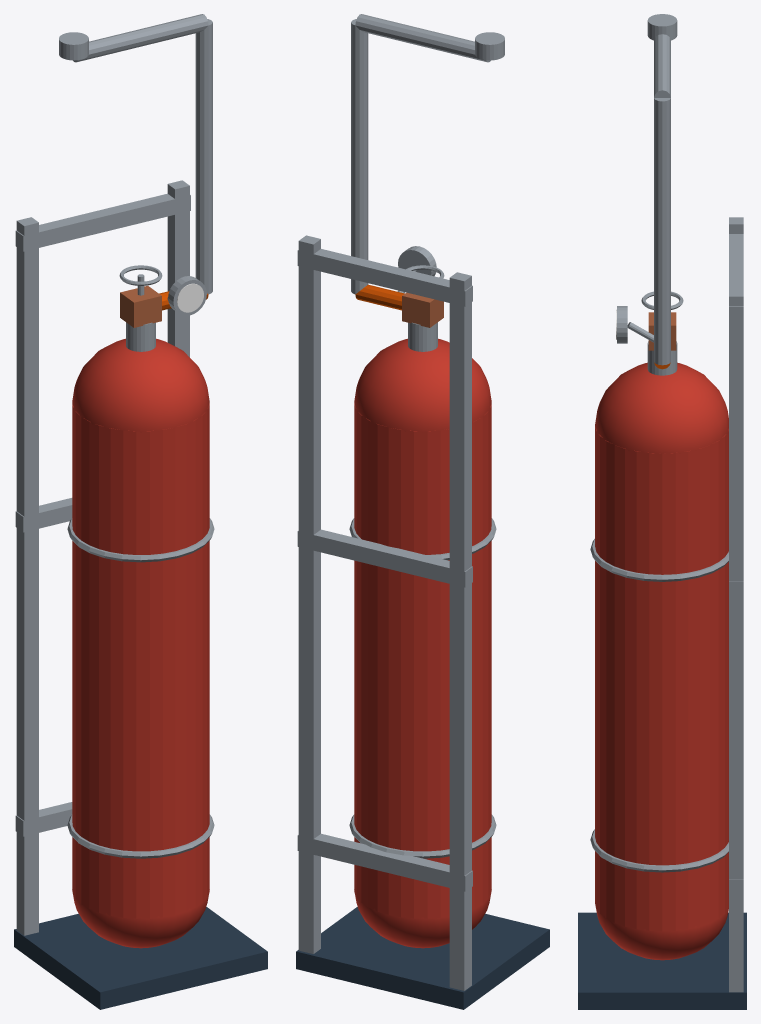
File: gas-suppression.glb
The picture shows the model from 3 angles, left to right: view 1: azimuth 30°, elevation 25°; view 2: azimuth 150°, elevation 25°; view 3: azimuth 270°, elevation 25°; orthographic projection.
Parts seen in each view (by area): view 1: merged_red, merged_metal, base, valve, blank_dial; view 2: merged_red, merged_metal, base, valve, connection; view 3: merged_red, merged_metal, base, valve.
Part boxes in pixels (bbox=[...]): merged_red: bbox=[72, 338, 209, 948]; merged_metal: bbox=[15, 14, 214, 935]; base: bbox=[14, 907, 267, 1009]; valve: bbox=[120, 285, 161, 327]; blank_dial: bbox=[177, 283, 203, 312]; merged_red: bbox=[354, 338, 491, 948]; merged_metal: bbox=[297, 14, 504, 990]; base: bbox=[296, 907, 549, 1009]; valve: bbox=[402, 292, 443, 327]; connection: bbox=[355, 284, 404, 310]; merged_red: bbox=[595, 362, 728, 960]; merged_metal: bbox=[590, 14, 743, 992]; base: bbox=[578, 912, 746, 1009]; valve: bbox=[648, 312, 676, 350].
Bounding box in the file's own units: 0.45 × 2.4 × 0.4.
